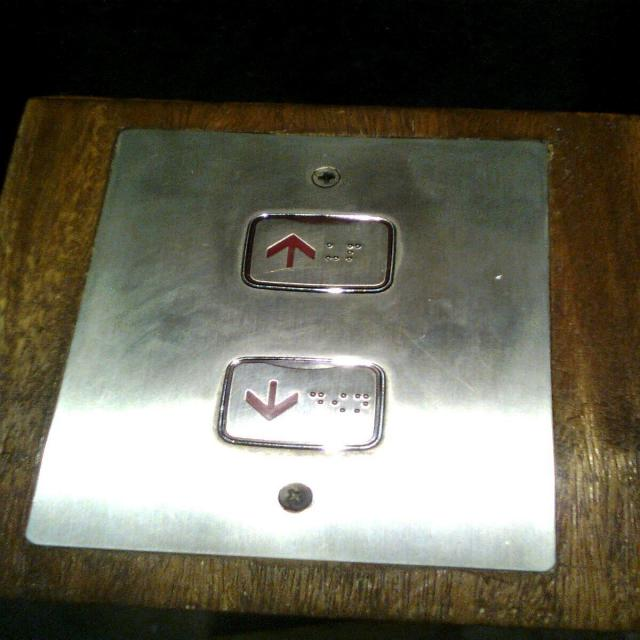down: (217, 356, 386, 449)
up: (234, 209, 401, 294)
